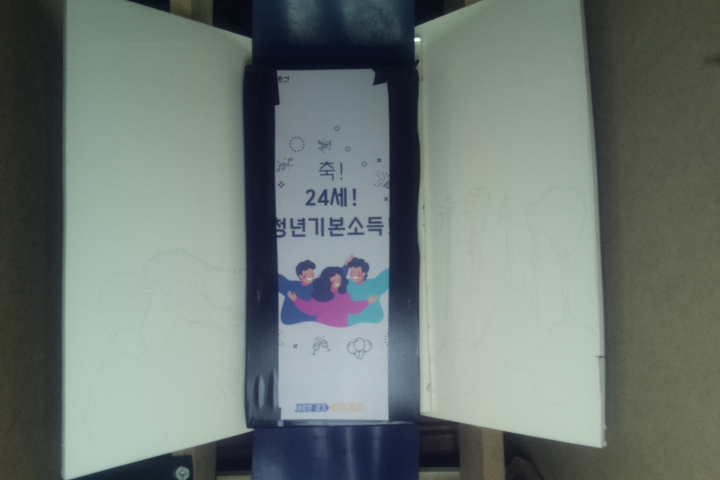book: (244, 57, 418, 426)
